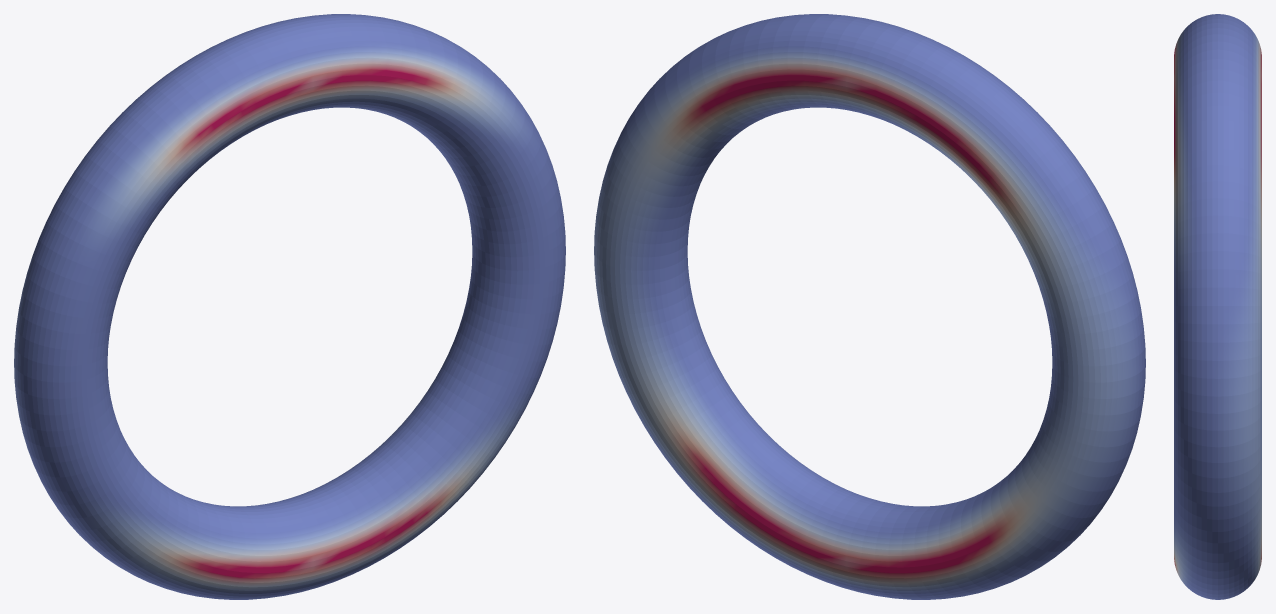
3 views of the same model, side by side, from view 1: azimuth 30°, elevation 25°; view 2: azimuth 150°, elevation 25°; view 3: azimuth 270°, elevation 25° (orthographic). The views are drawn at different scales.
Parts seen in each view (by area): view 1: world; view 2: world; view 3: world.
Part boxes in pixels (x1,y1,x2,y2): world: (14, 14, 565, 599); world: (594, 14, 1145, 599); world: (1174, 14, 1261, 599).
Bounding box in the file's own units: 20.4 × 20.4 × 3.06.
